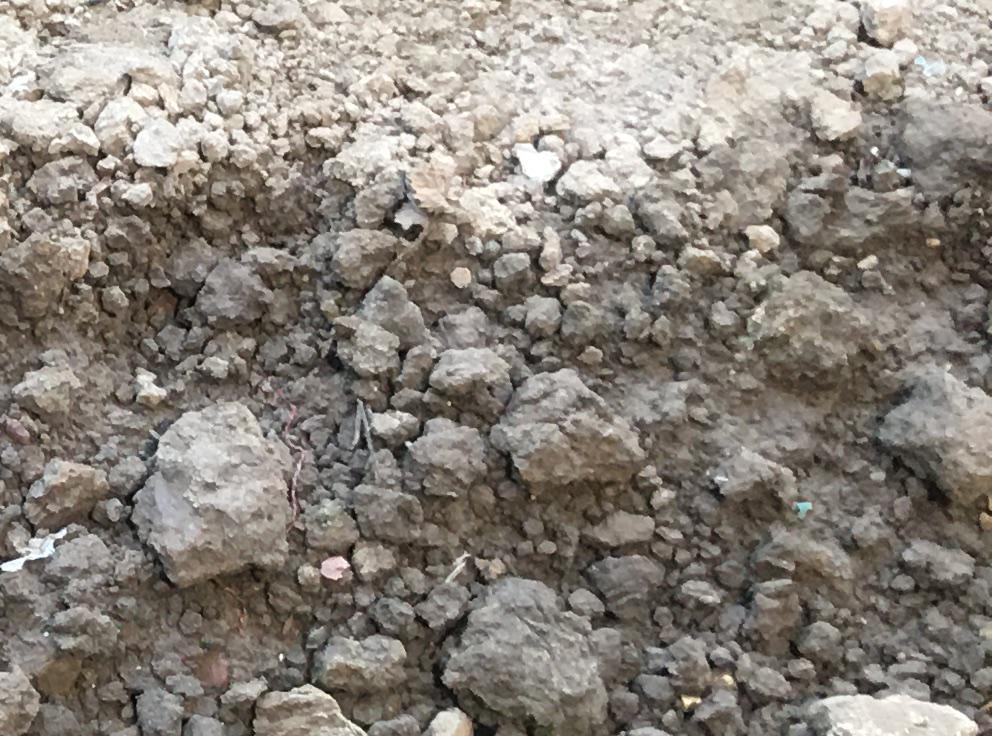block: (129, 399, 296, 575), (433, 572, 611, 734), (493, 373, 646, 484), (886, 363, 992, 500)
